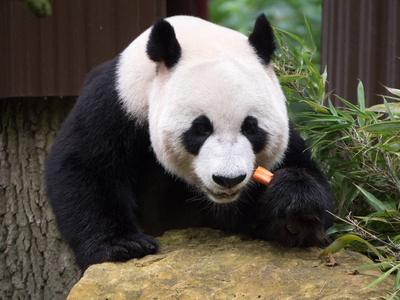panda: (45, 12, 333, 261)
